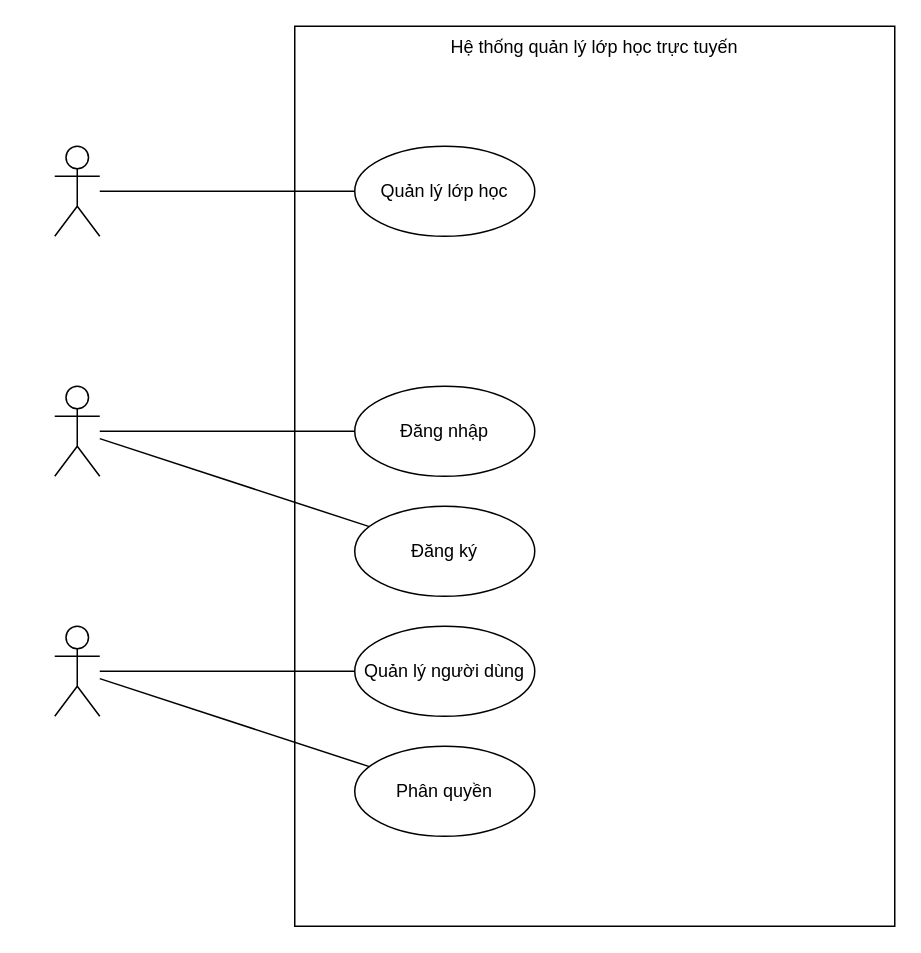
This 921x953 diagram has some shape labels left out. The box of each missing label's shape, as (x1, y1, x2, y2) in pixels:
Giáo viên: (53, 145, 100, 236)
Người dùng: (53, 385, 100, 476)
Quản trị viên: (53, 625, 100, 716)
